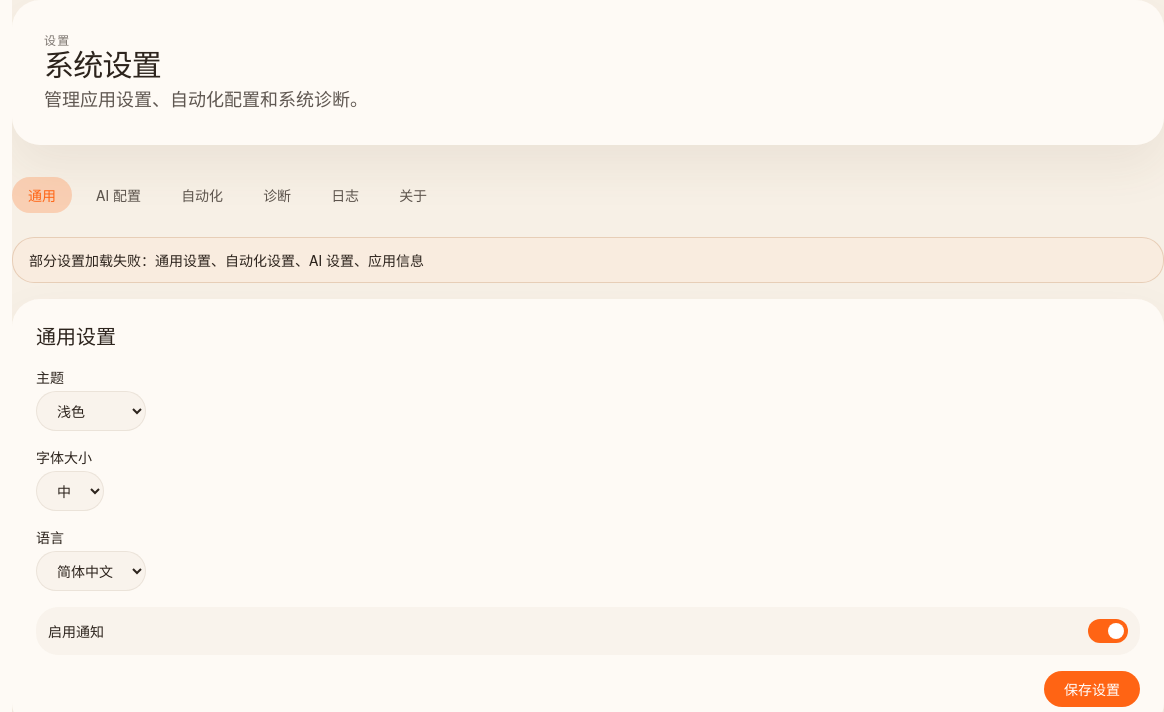
Scenario: SettingsPage › keeps AI controls visible even if settings loading fails
Step 1. Click the button "AI 配置" → (119,195), box [80, 177, 157, 213]
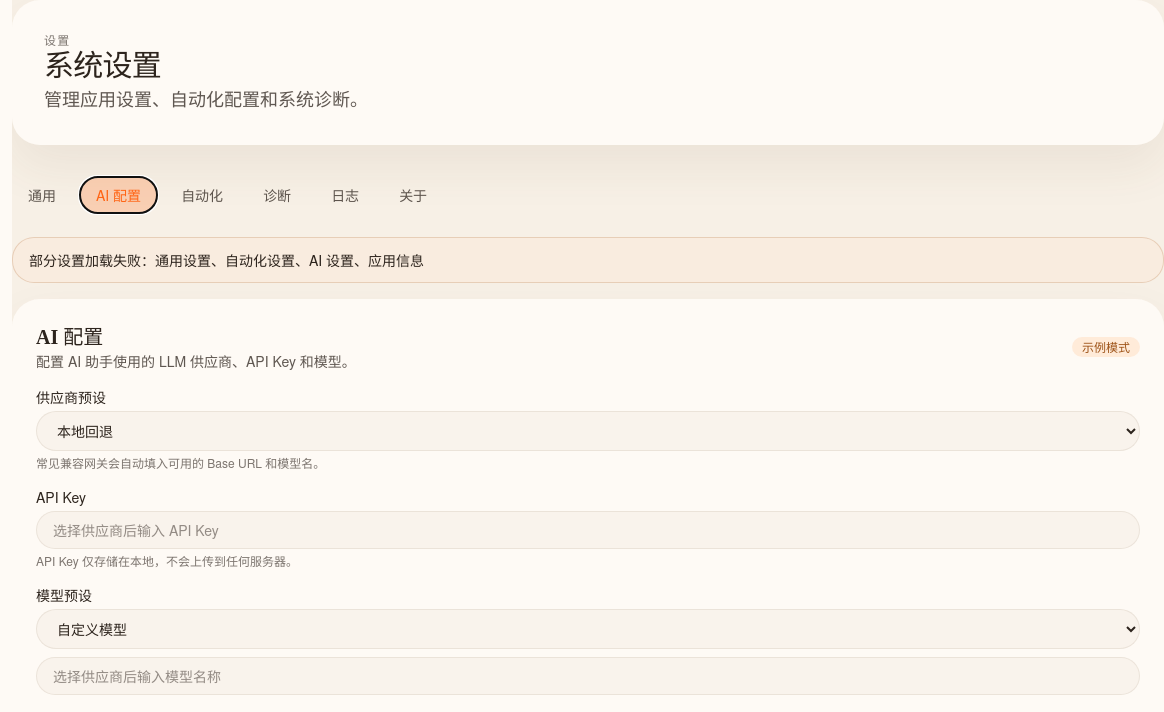
Expected: the dropdown labelled "供应商预设" is shown, [36, 411, 1140, 451]
Expected: the password field labelled "API Key" is shown, [36, 511, 1140, 549]
Expected: the dropdown labelled "模型预设" is shown, [36, 609, 1140, 649]
